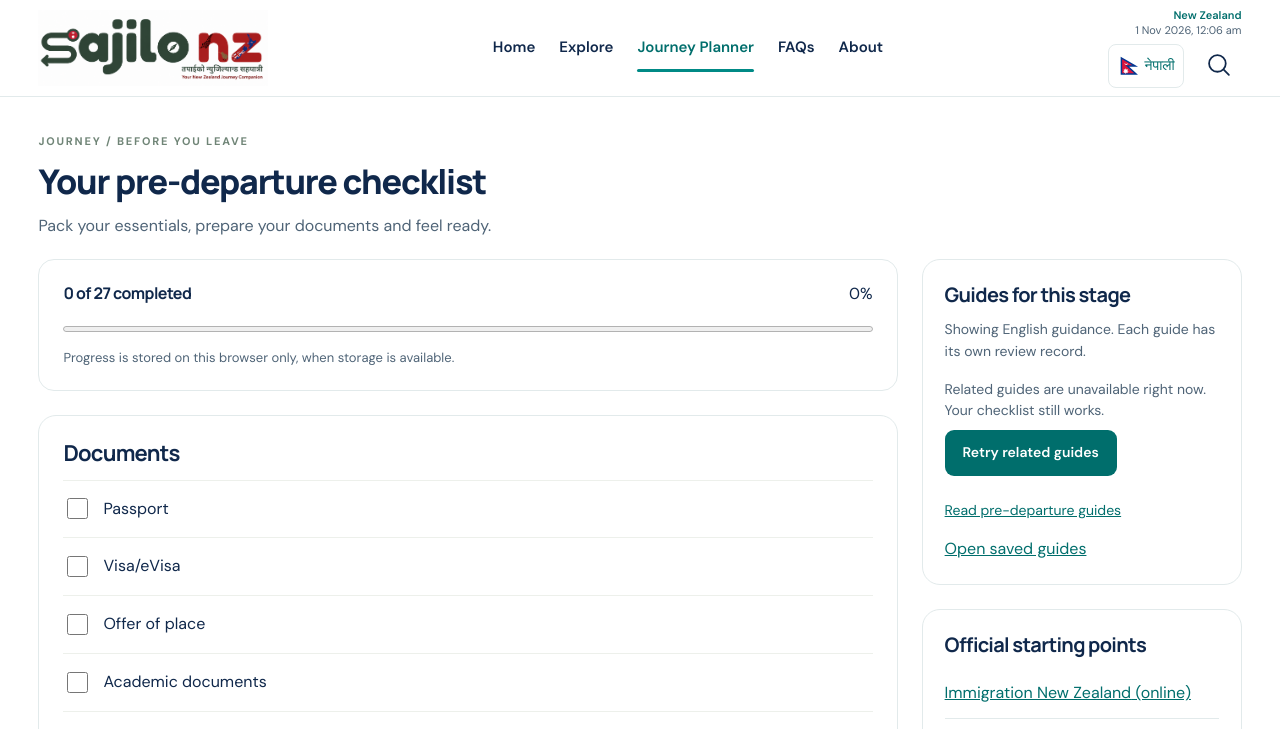
Scenario: guide API failure leaves tasks interactive and offers retry
Check: the button "Retry related guides" is shown, box [945,430,1117,476]
Click the checkbox labelled "Passport".
click(78, 509)  # box [67,498,88,520]
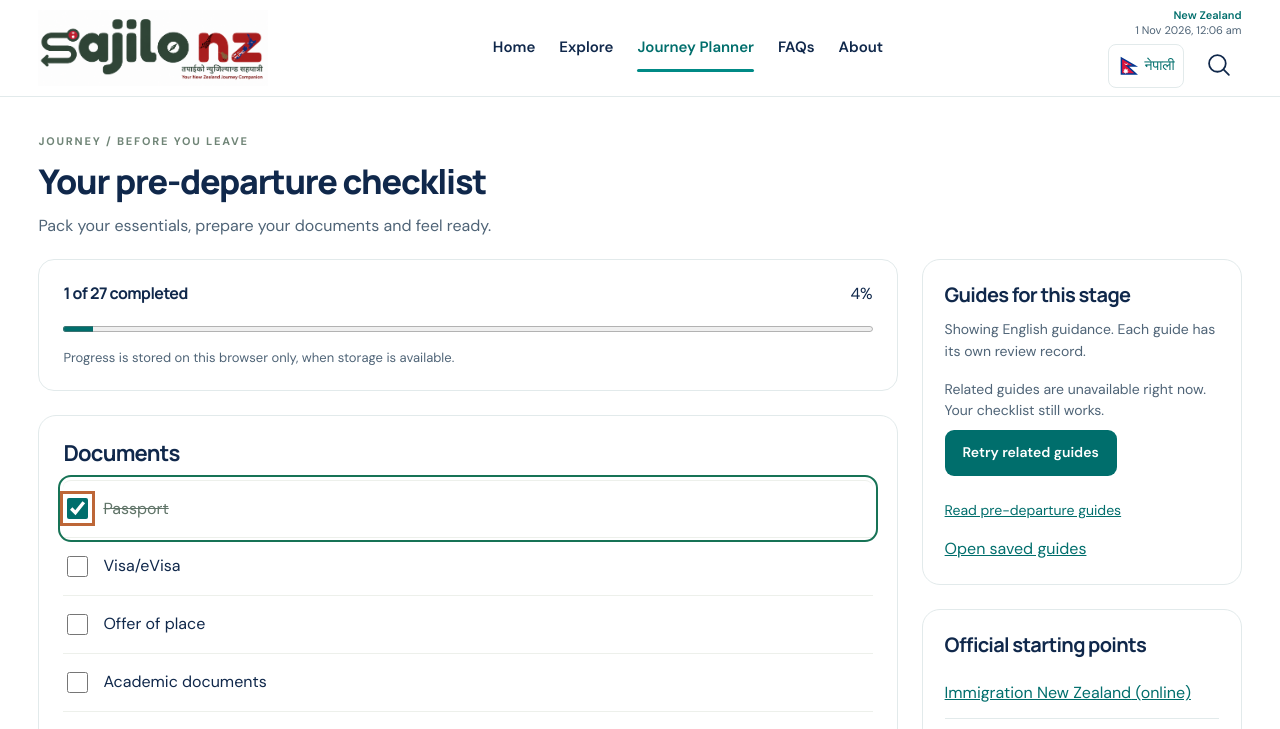
Check: the checkbox labelled "Passport" is checked, box [67,498,88,520]
Click the button "Retry related guides".
click(1031, 453)  # box [945,430,1117,476]
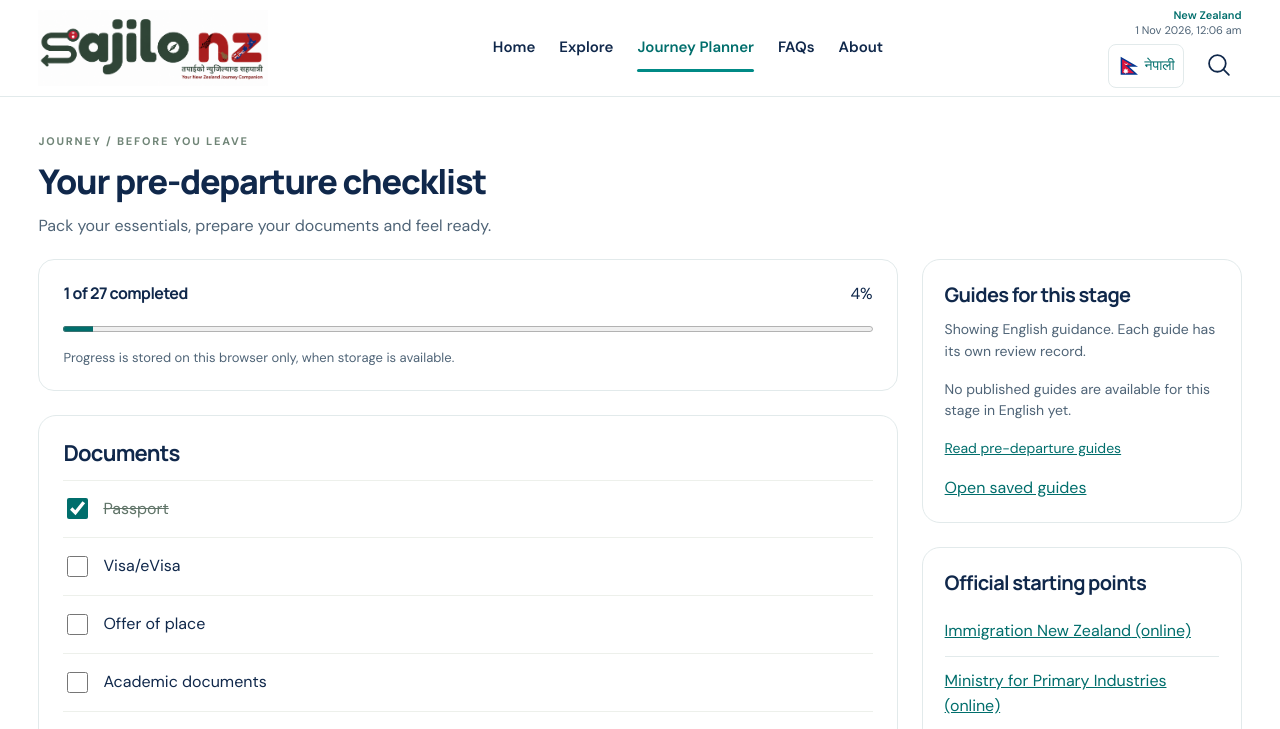
Check: the text "No published guides are available for this stage in English yet." is shown, box [945,378,1219,422]
